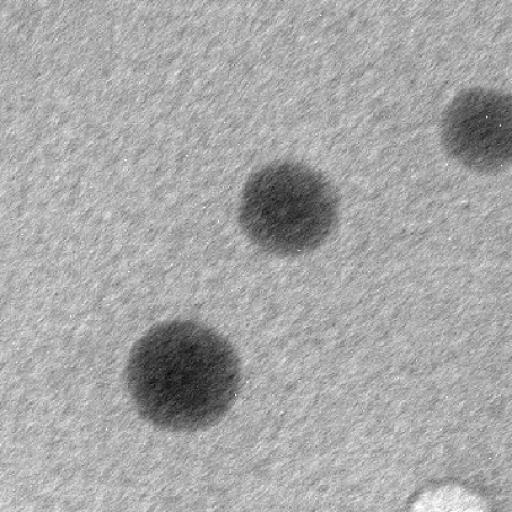Nanoparticles: (127, 320, 244, 433), (227, 160, 354, 256), (454, 94, 512, 172)
